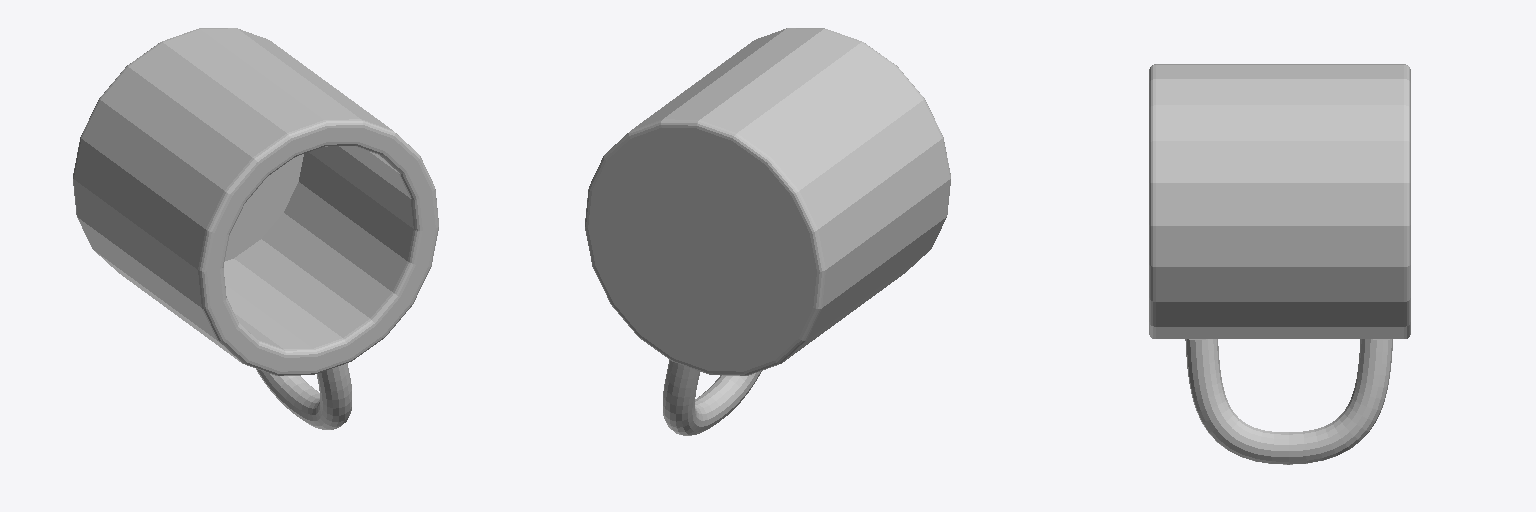
File: cup.obj
3 renders of one model, left to right at view 1: azimuth 30°, elevation 25°; view 2: azimuth 150°, elevation 25°; view 3: azimuth 270°, elevation 25°, orthographic.
Visible parts, largest first — view 1: cup; view 2: cup; view 3: cup.
Boxes of the visible parts, <box> form: cup: <box>73,28,438,429</box>; cup: <box>585,28,950,435</box>; cup: <box>1149,64,1410,464</box>.
Size of the model in its own units: 36.58 by 52.34 by 34.48.